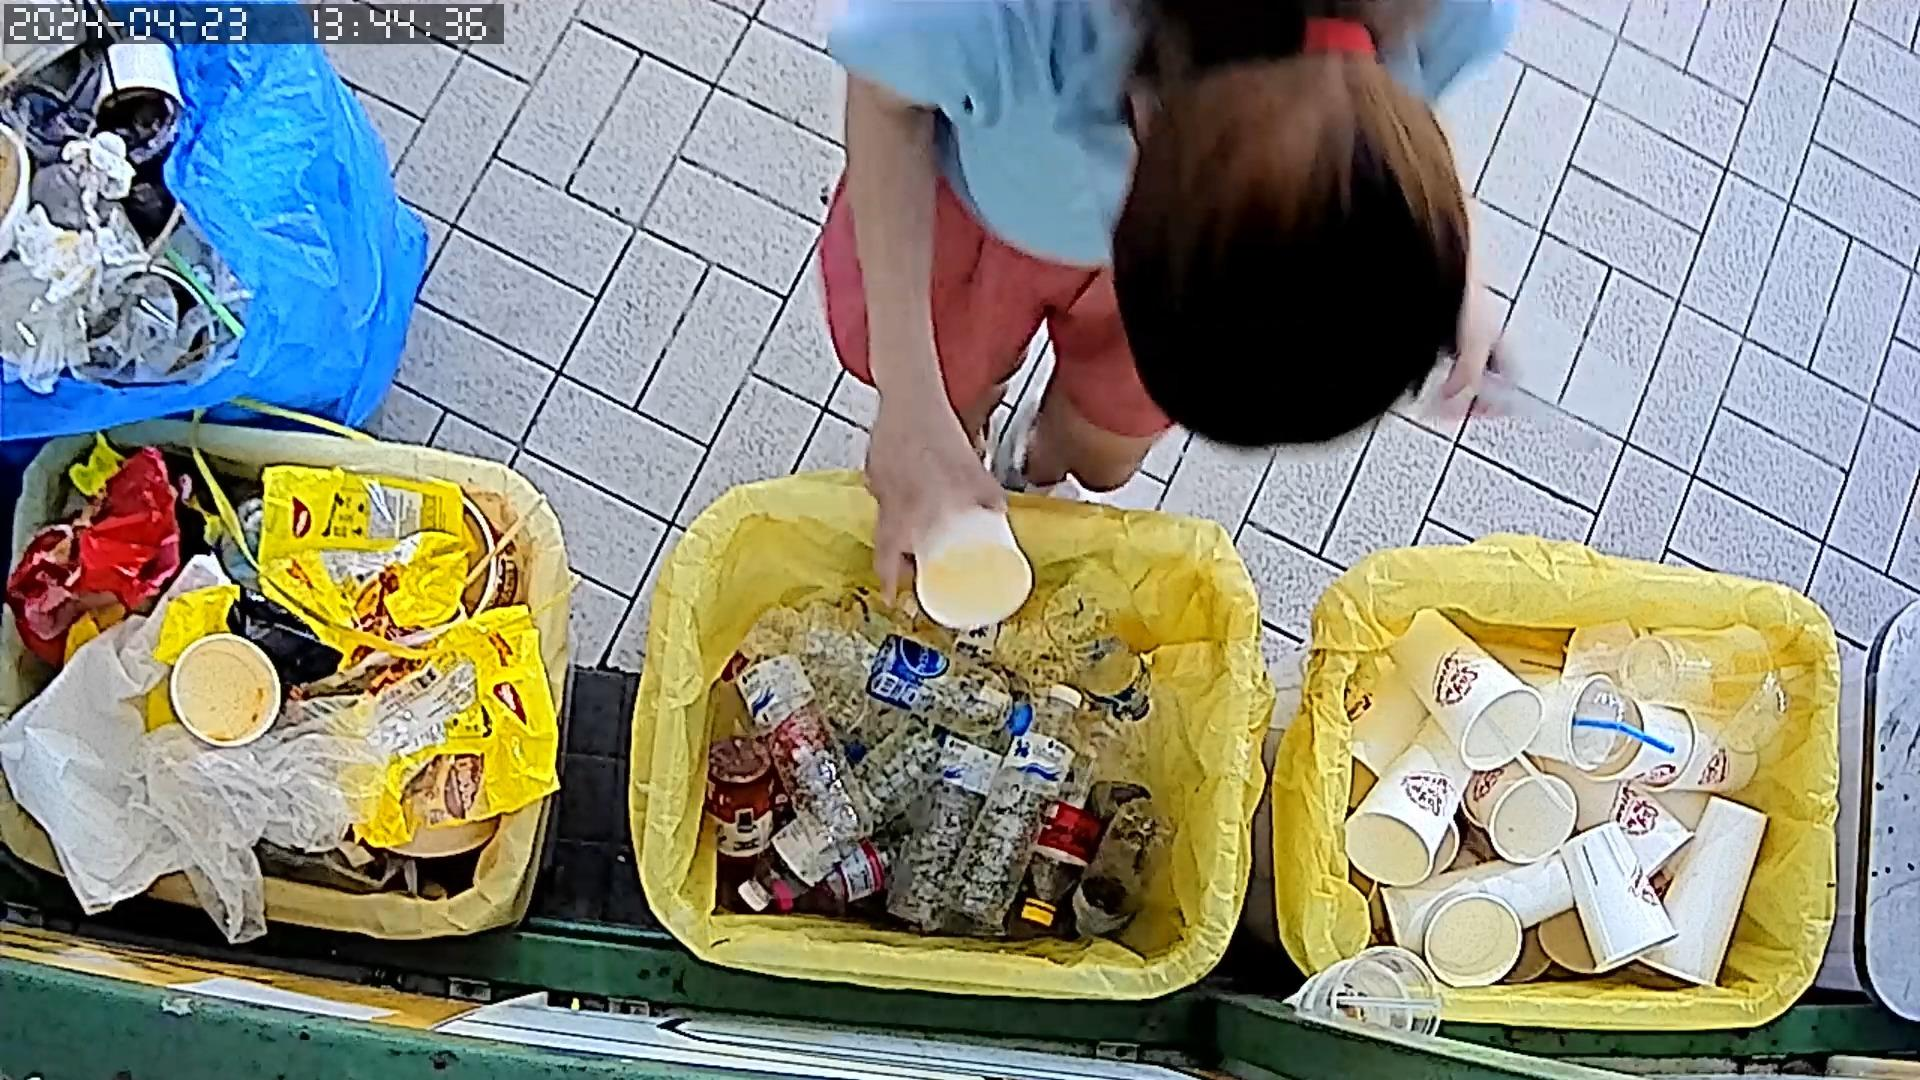can: (705, 738, 777, 869)
food container: (905, 495, 1036, 640), (170, 628, 287, 762), (1416, 880, 1532, 989)
plastic bag: (5, 560, 243, 927), (150, 696, 397, 945)
plastic bottle: (740, 705, 968, 910), (787, 595, 1040, 752), (864, 683, 1022, 931), (939, 670, 1095, 918), (725, 607, 869, 865), (1009, 735, 1114, 928), (1064, 794, 1185, 945), (1047, 588, 1153, 728)
plastic cup: (1622, 615, 1795, 723), (1560, 657, 1638, 777)
snack packaging: (316, 595, 564, 853), (0, 434, 196, 669), (245, 447, 463, 642)
sticks: (456, 489, 553, 596)
straw: (157, 237, 265, 332), (1481, 713, 1573, 816), (1567, 719, 1684, 753)
tissue paper: (12, 198, 104, 311), (58, 120, 141, 212)
zero waste cup: (1638, 793, 1774, 1004), (1382, 604, 1539, 785), (1336, 712, 1484, 887), (1549, 816, 1684, 976), (1564, 767, 1700, 893), (1469, 758, 1582, 869), (1594, 682, 1701, 783), (1655, 700, 1763, 798)
